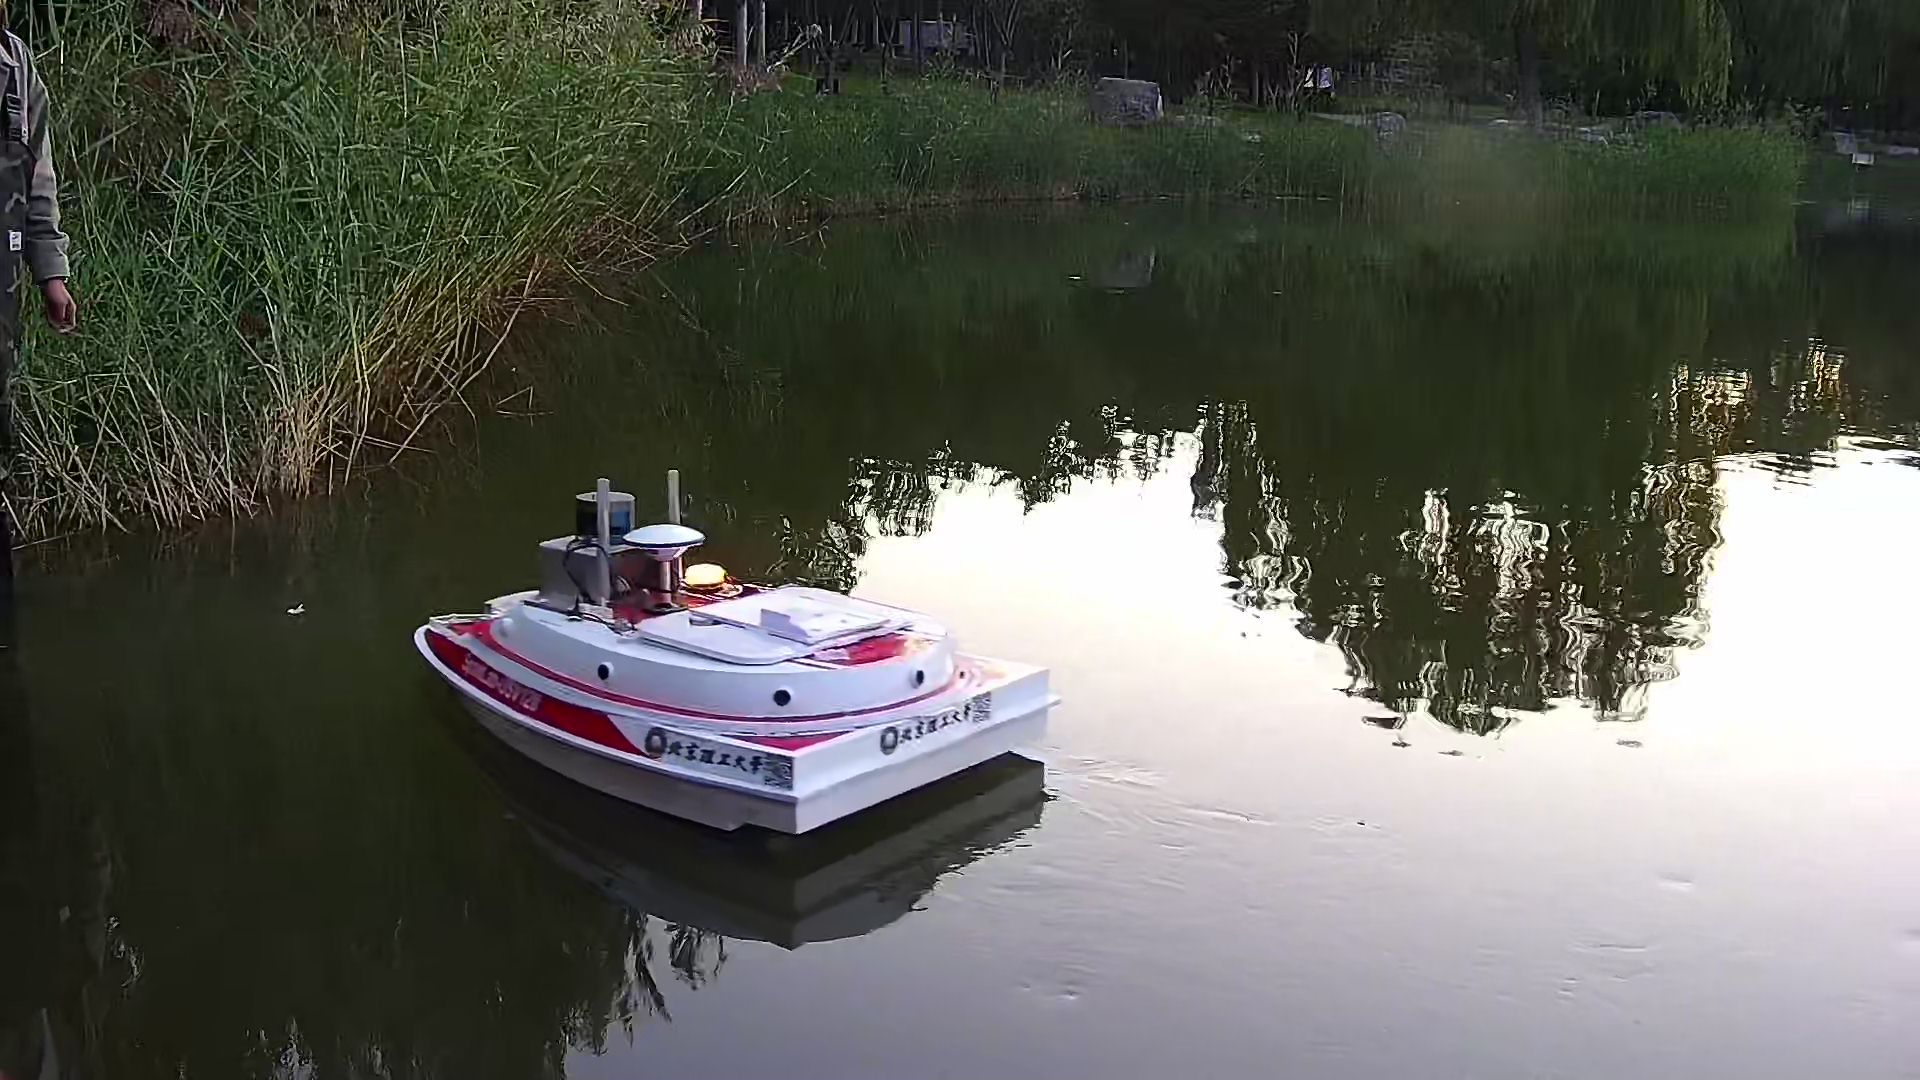boat: (410, 487, 1080, 845)
